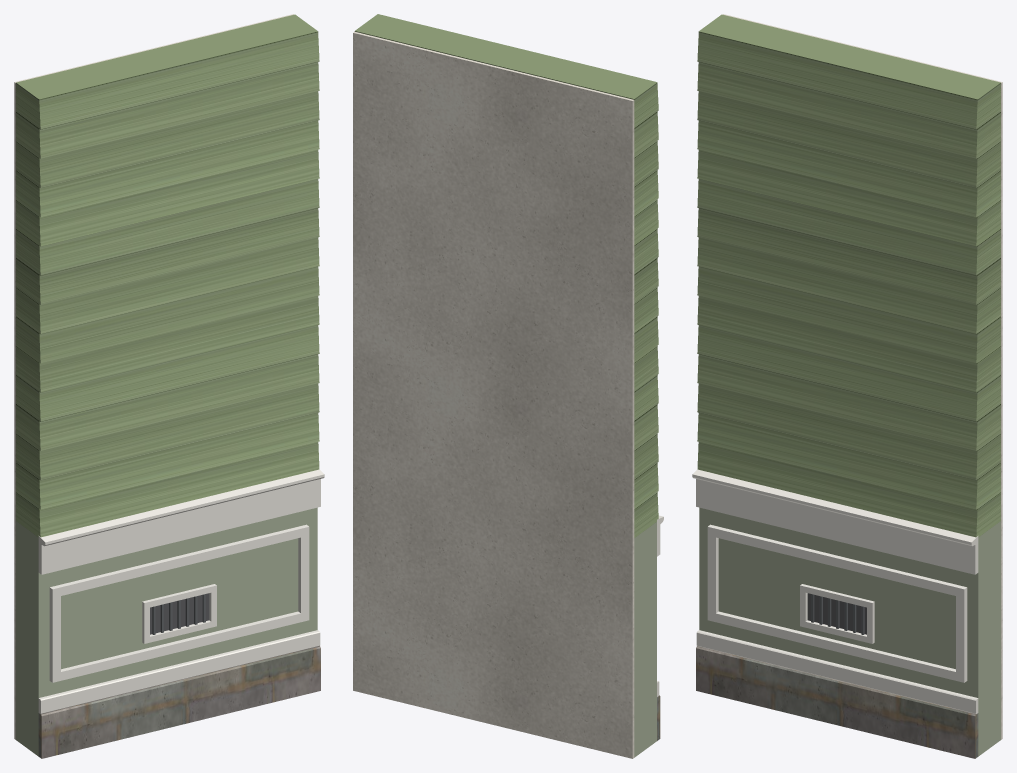
File: f_g_plain_b.glb
The picture shows the model from 3 angles, left to right: view 1: azimuth 30°, elevation 25°; view 2: azimuth 150°, elevation 25°; view 3: azimuth 330°, elevation 25°; orthographic projection.
Parts seen in each view (by area): view 1: f_g_plain_b_siding_b, f_g_plain_b_acc_b, f_g_plain_b_trim, f_g_plain_b_plinth, f_g_plain_b_plaster, f_g_plain_b_dark, f_g_plain_b_iron; view 2: f_g_plain_b_plaster, f_g_plain_b_siding_b, f_g_plain_b_acc_b; view 3: f_g_plain_b_siding_b, f_g_plain_b_acc_b, f_g_plain_b_trim, f_g_plain_b_plinth, f_g_plain_b_plaster, f_g_plain_b_dark, f_g_plain_b_iron.
Boxes of the visible parts, x1,y1,x2,y2 form: f_g_plain_b_siding_b: (16,14,319,537); f_g_plain_b_acc_b: (16,507,317,756); f_g_plain_b_trim: (38,469,324,713); f_g_plain_b_plinth: (38,646,320,758); f_g_plain_b_plaster: (14,14,293,739); f_g_plain_b_dark: (150,593,209,634); f_g_plain_b_iron: (152,594,205,634); f_g_plain_b_plaster: (353,31,634,758); f_g_plain_b_siding_b: (354,14,658,537); f_g_plain_b_acc_b: (634,522,656,757); f_g_plain_b_siding_b: (697,14,1000,537); f_g_plain_b_acc_b: (699,507,1000,756); f_g_plain_b_trim: (692,469,978,713); f_g_plain_b_plinth: (696,646,978,758); f_g_plain_b_plaster: (723,14,1002,739); f_g_plain_b_dark: (807,593,866,634); f_g_plain_b_iron: (811,594,864,634).
Size of the model in its own units: 2 by 4.5 by 0.385.
Materials: 7 (3 with a texture image).
